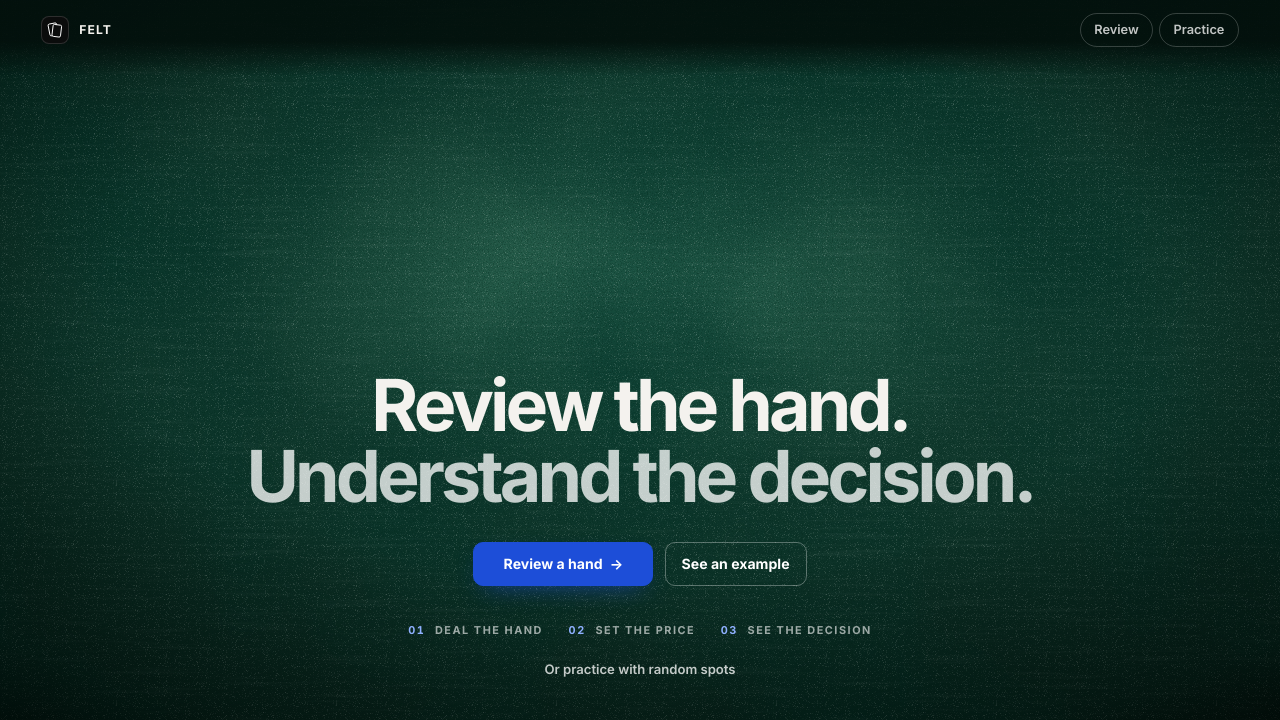
the entry › opens the table with the two cards it dealt
Expected: the heading "Review the hand. Understand the decision." is shown, [246,370,1033,513]
Click the button "Review a hand →": {"x": 563, "y": 564} [473,542,653,586]
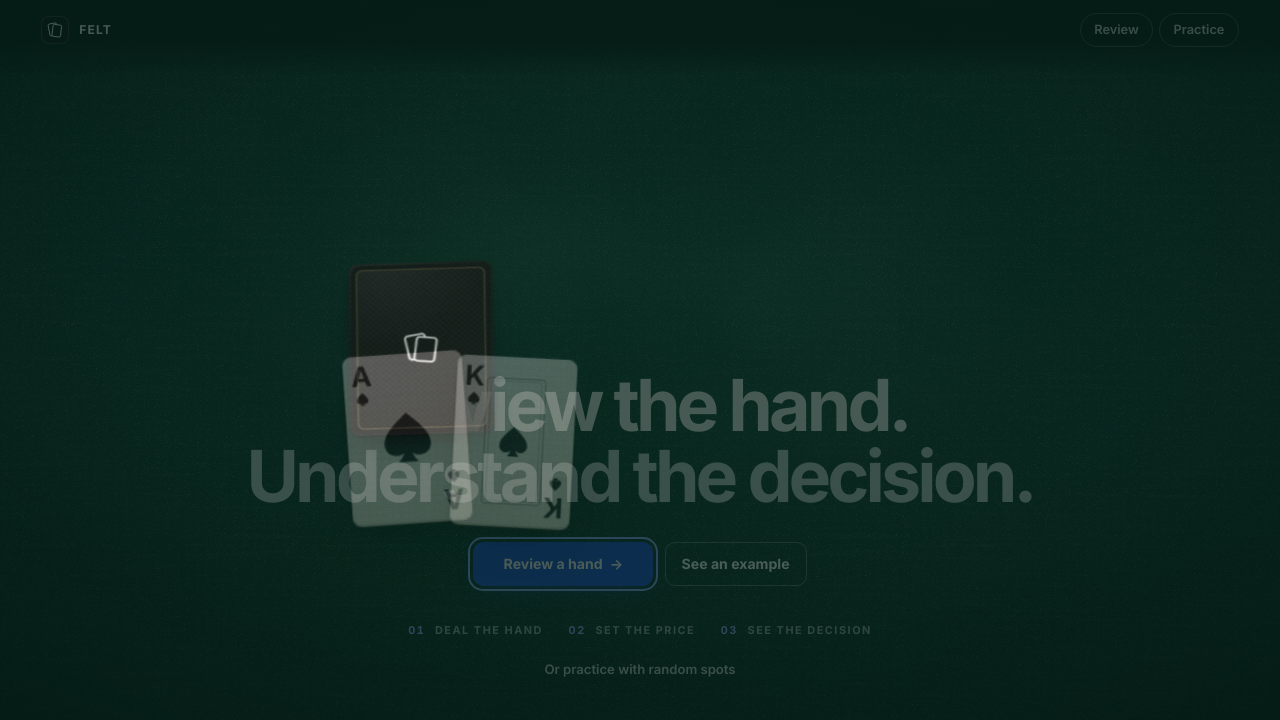
Result: the button named "Change Hole card 1: A of Spades" is shown at [267,488,365,621]
Result: the button named "Change Hole card 2: K of Spades" is shown at [372,489,469,621]
